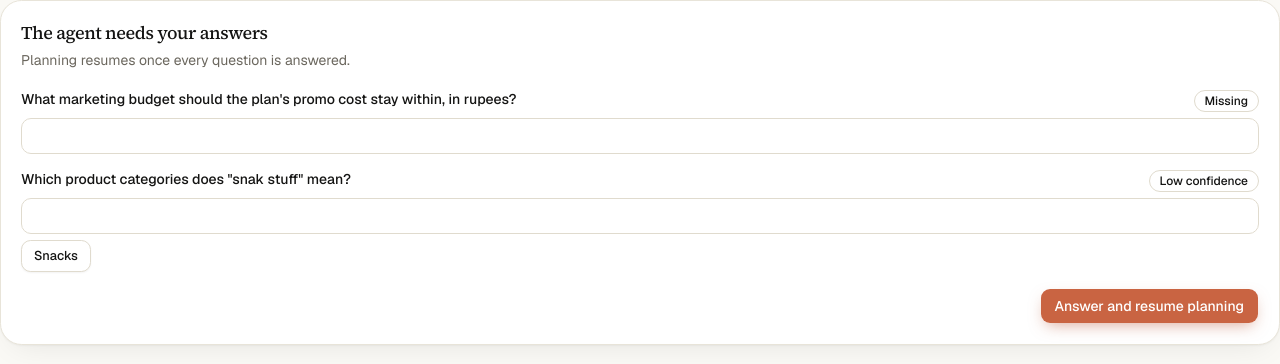
Test: ClarificationForm › disables the button while the answers are sent
Type "₹2 lakh" into the field labelled "What marketing budget should the plan's promo cost stay within, in rupees?". click: x=640, y=136
box: [21, 118, 1259, 154]
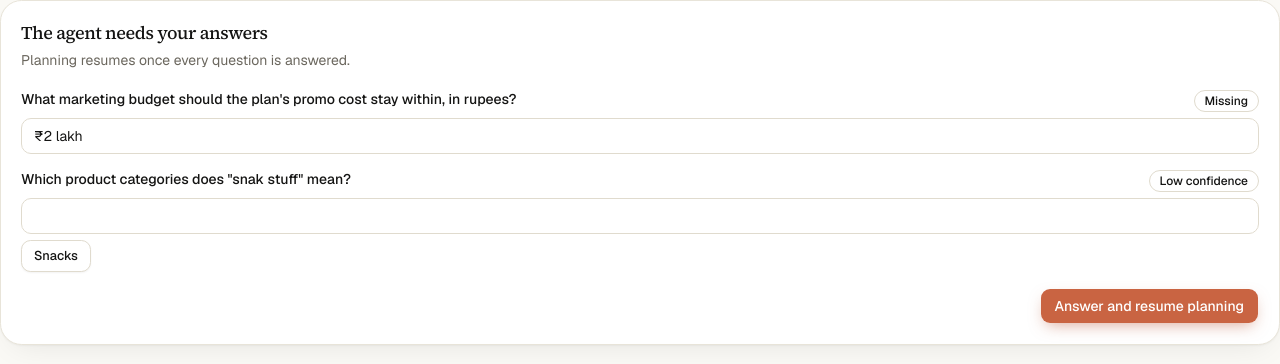
Type "Snacks" into the field labelled "Which product categories does \"snak stuff\" mean?". click: x=640, y=216
box: [21, 198, 1259, 234]
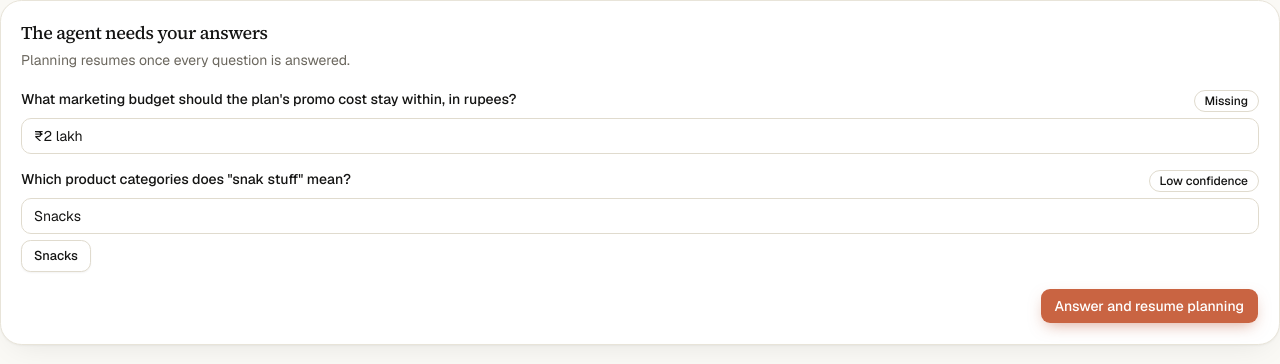
Click the button "Answer and resume planning". click: x=1149, y=306
box: [1040, 288, 1259, 324]
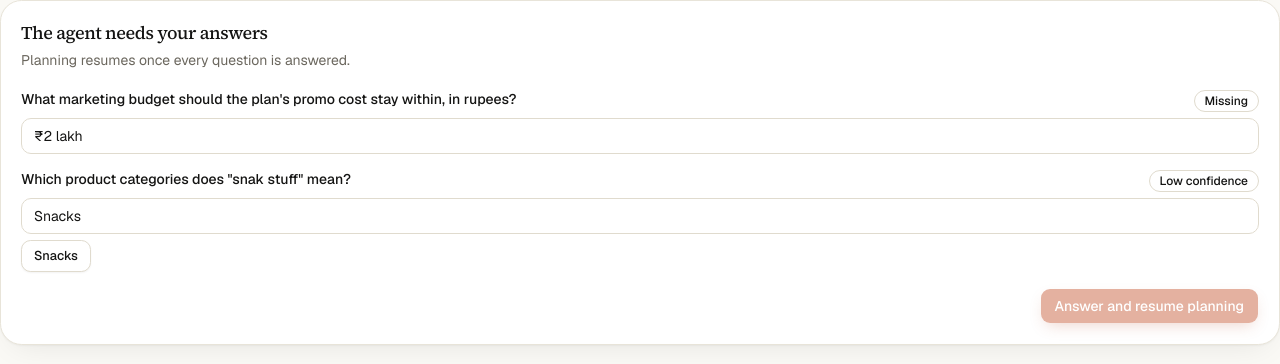
Expected: the button "Answer and resume planning" is disabled, [1040, 288, 1259, 324]
